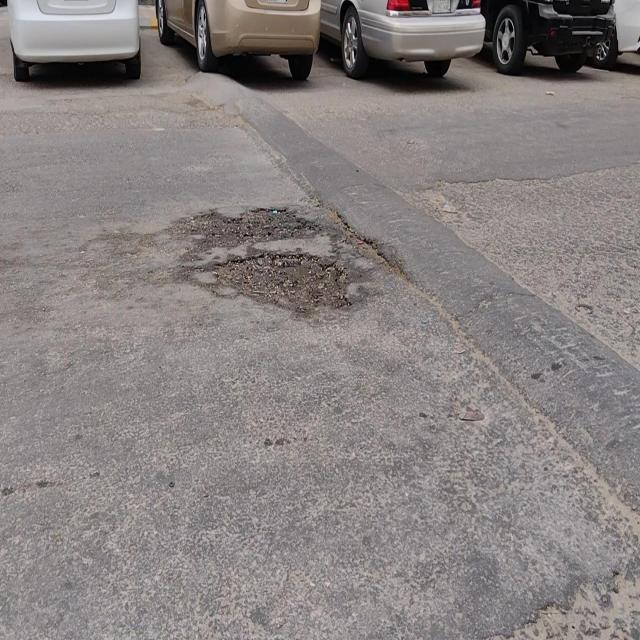Potholes: (210, 256, 351, 315), (192, 207, 317, 255)
